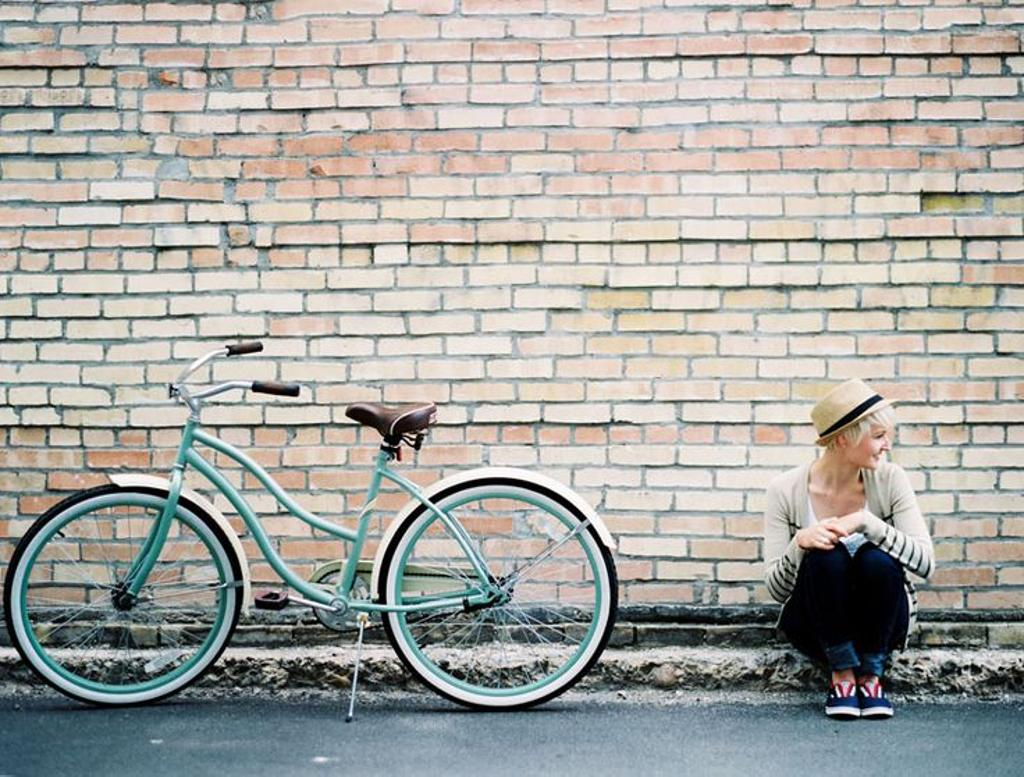face: (847, 420, 890, 469)
